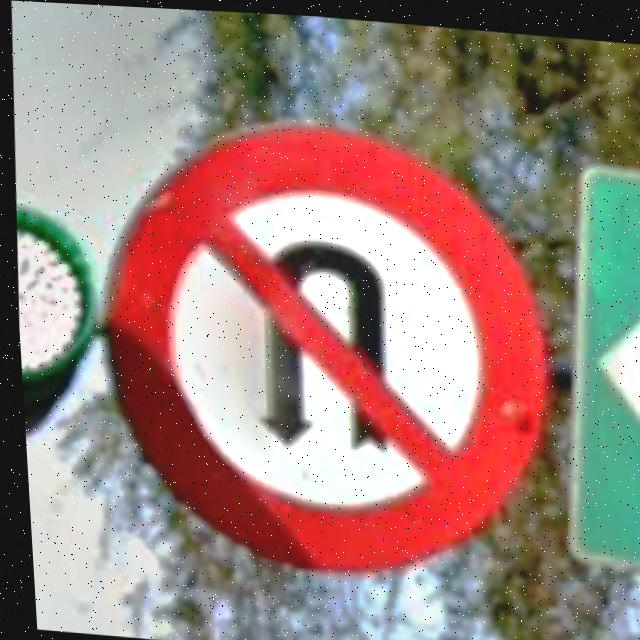nouturn: (98, 117, 548, 572)
